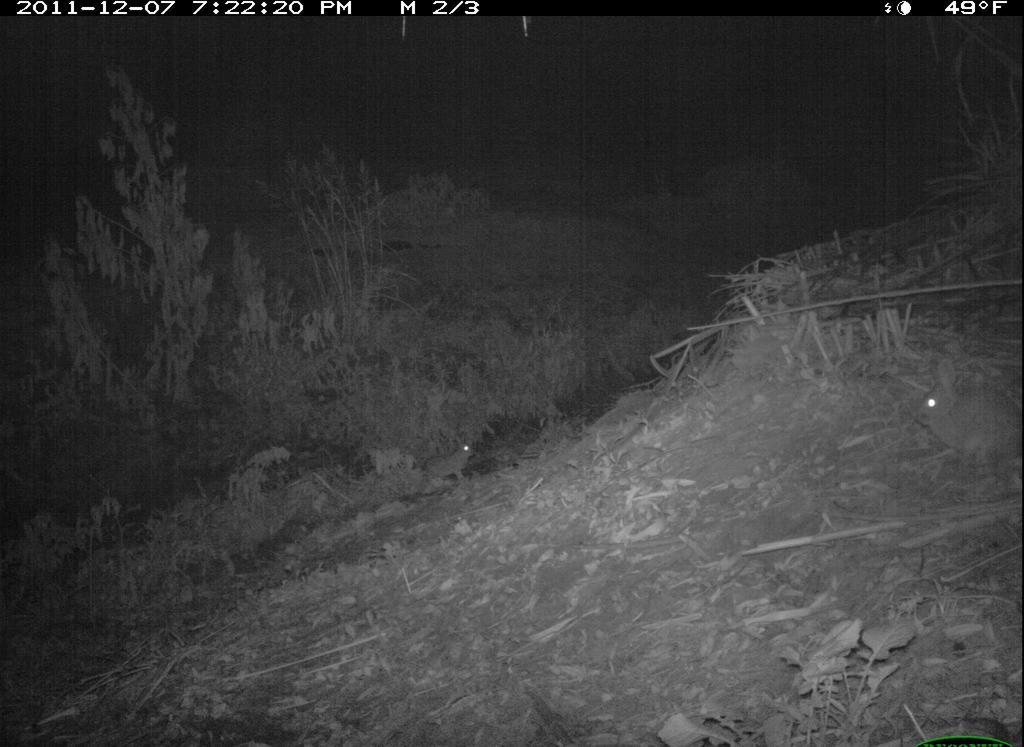rabbit: (908, 356, 1017, 475), (420, 431, 479, 486)
